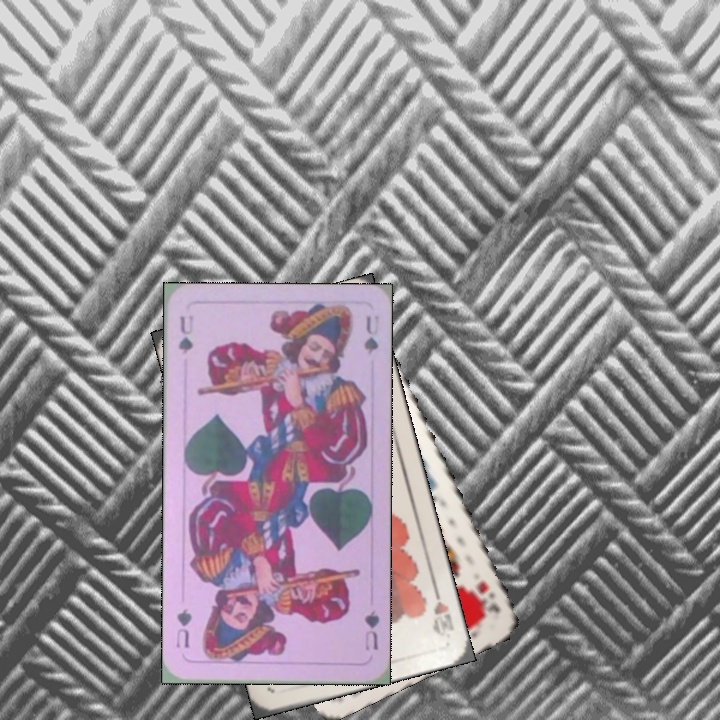GU: (360, 607, 382, 653), (174, 311, 196, 357)
H10: (429, 582, 457, 641)
HK: (468, 577, 503, 620)
